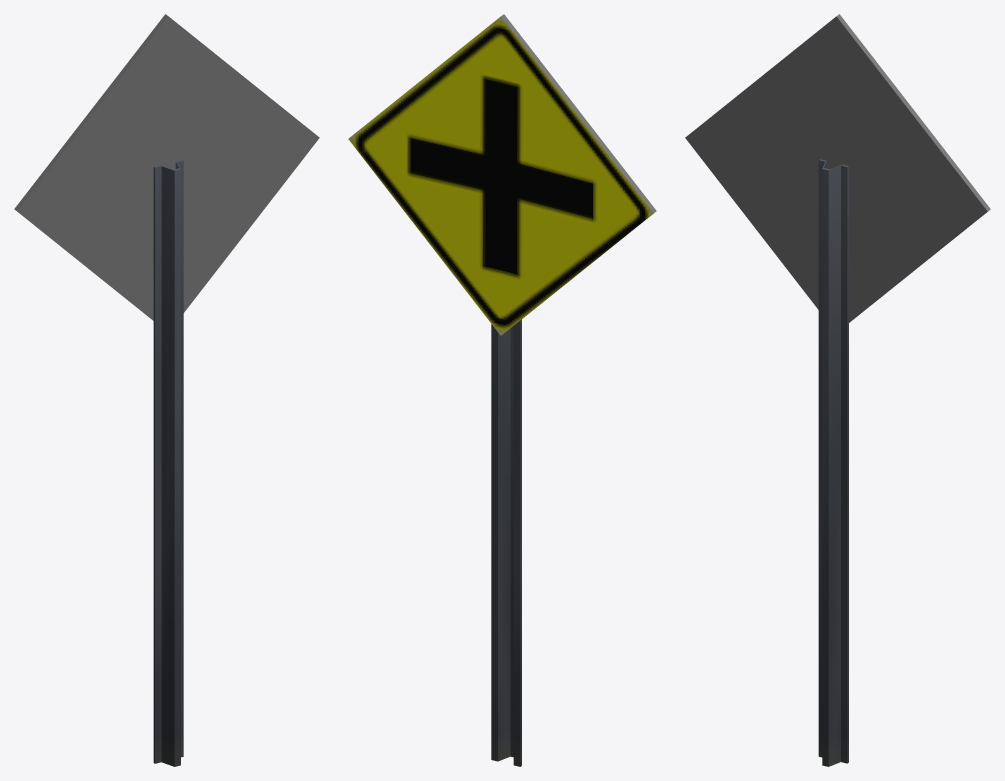
Rendered from warning_intersect.obj.
3 renders of one model, left to right at view 1: azimuth 30°, elevation 25°; view 2: azimuth 150°, elevation 25°; view 3: azimuth 330°, elevation 25°, orthographic.
Visible parts, largest first — view 1: Mesh; view 2: Mesh; view 3: Mesh.
Boxes of the visible parts, <box> form: Mesh: <box>14,14,319,766</box>; Mesh: <box>348,14,656,766</box>; Mesh: <box>685,14,990,766</box>.
Bounding box in the file's own units: 0.2382 × 0.5585 × 0.0181.
